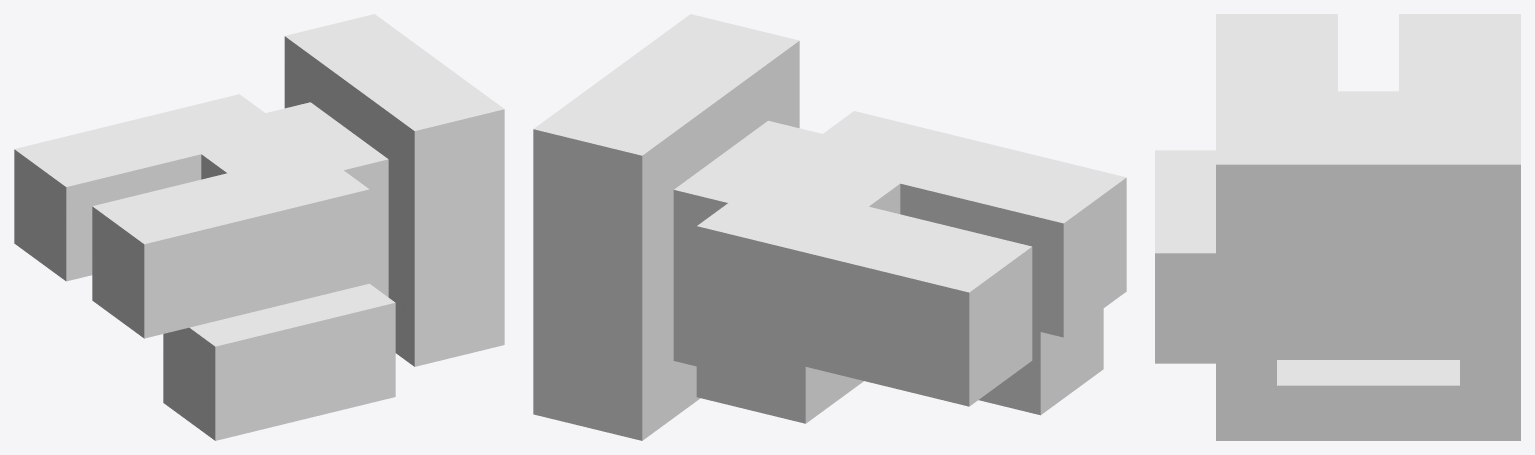
The model's file is Hand_Right_3.fbx.
The picture shows the model from 3 angles, left to right: view 1: azimuth 30°, elevation 25°; view 2: azimuth 150°, elevation 25°; view 3: azimuth 270°, elevation 25°; orthographic projection. The views are drawn at different scales.
Parts seen in each view (by area): view 1: Hand_Right_3; view 2: Hand_Right_3; view 3: Hand_Right_3.
Part boxes in pixels (bbox=[...]): Hand_Right_3: bbox=[14, 14, 504, 440]; Hand_Right_3: bbox=[533, 14, 1126, 440]; Hand_Right_3: bbox=[1155, 14, 1520, 440].
Bounding box in the file's own units: 8 × 5 × 6.
Materials: 1 (1 with a texture image).
